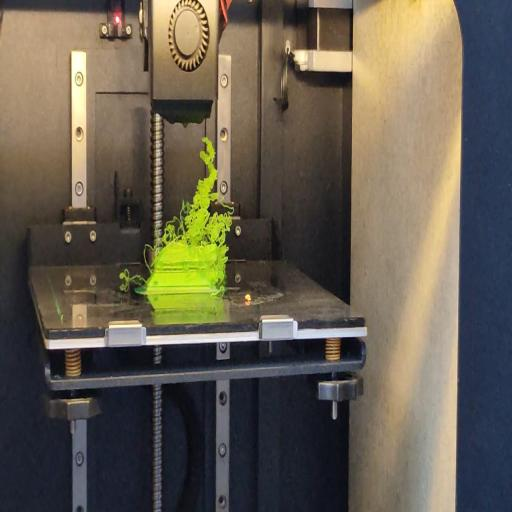spaghetti: (154, 134, 235, 246), (216, 248, 230, 300), (118, 270, 141, 286), (144, 243, 152, 273)
